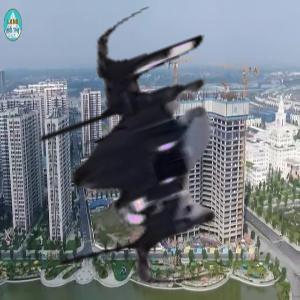drone: (2, 6, 297, 300)
